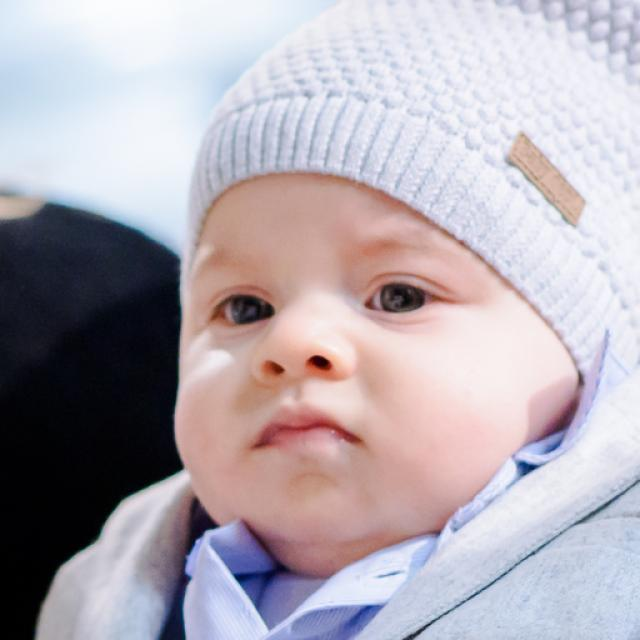anger: (175, 149, 534, 540)
